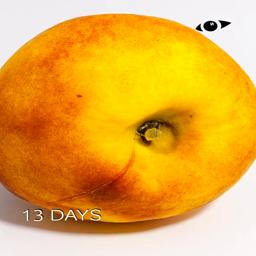Peach Semifresh: (0, 13, 254, 223)
